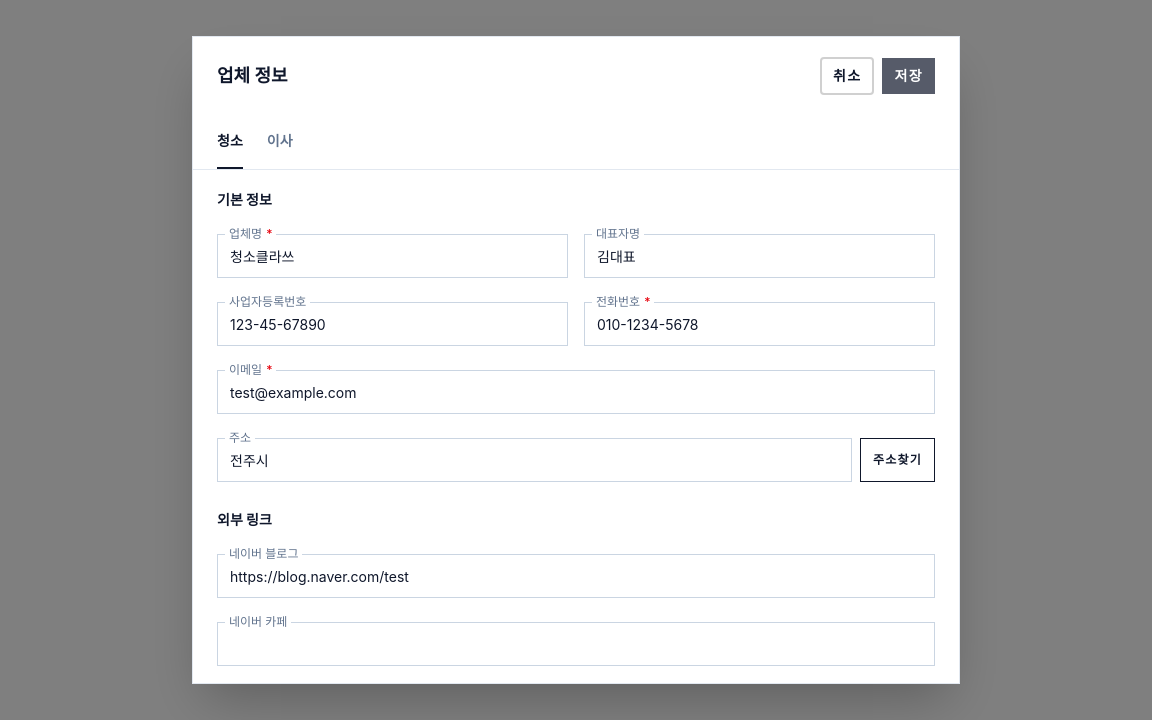
업체 정보 설정 팝업 › 저장 실패 시 입력값을 보존하고 항목 오류 표시
Replace the text in the field labelled "업체명" with "수정 업체": (392, 256) 217,234 -> 568,278
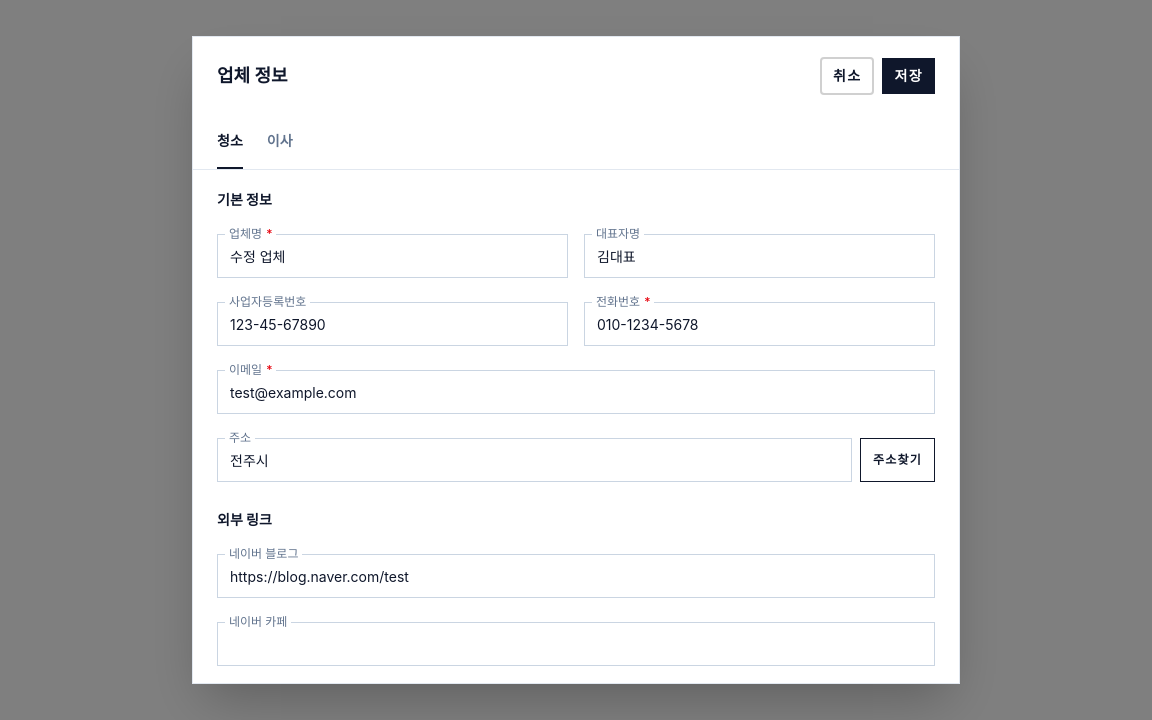
Click the button "저장": click(909, 76) 882,58 -> 935,94
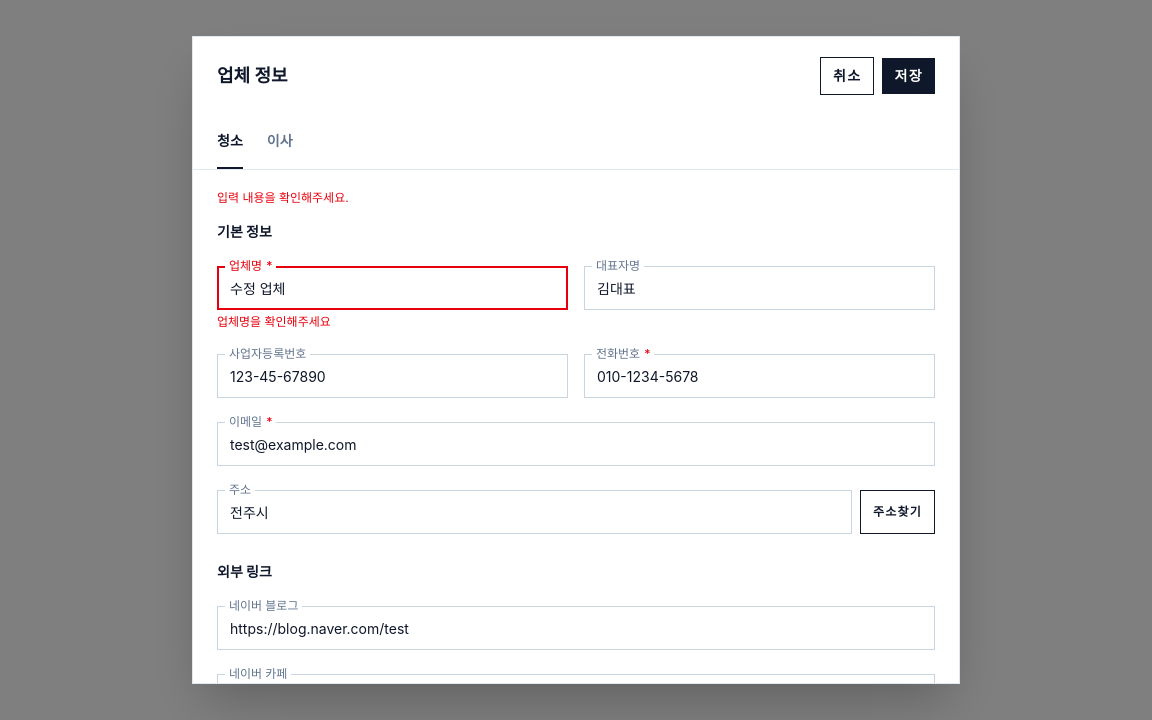
Expected: the text "업체명을 확인해주세요" is shown, 217,314 -> 331,329
